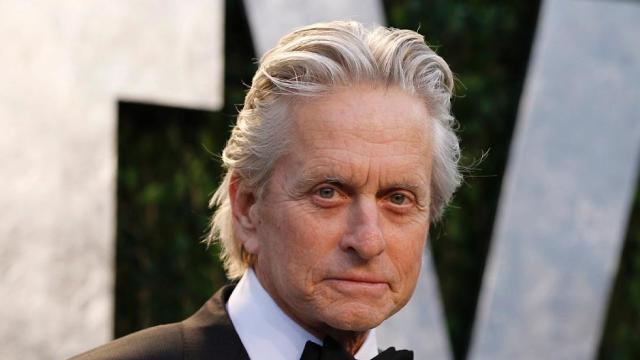chin: (305, 286, 323, 304)
crows_feet: (286, 184, 312, 206), (414, 196, 428, 219)
forehead: (316, 152, 344, 167), (361, 133, 387, 149), (321, 142, 353, 154)
frown_line: (358, 165, 372, 191), (375, 168, 385, 190)
sad_smile: (386, 280, 399, 298)
